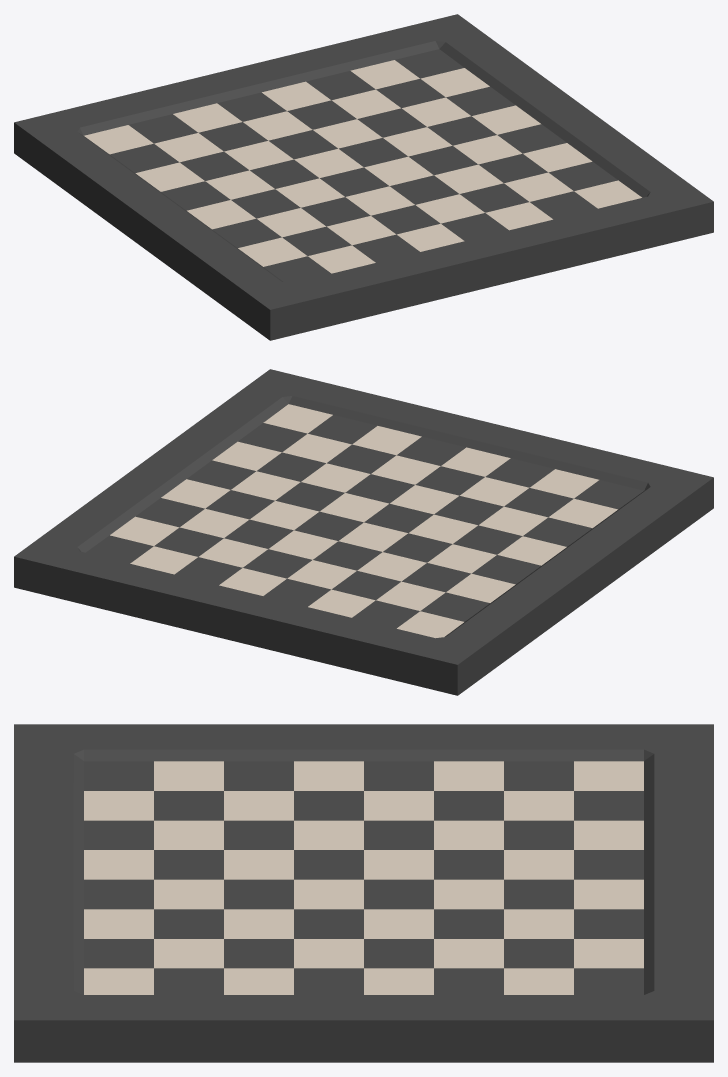
Rendered from board.gltf.
3 renders of one model, top to bottom at view 1: azimuth 30°, elevation 25°; view 2: azimuth 150°, elevation 25°; view 3: azimuth 270°, elevation 25°, orthographic. The views are drawn at different scales.
Visible parts, largest first — view 1: Board; view 2: Board; view 3: Board.
Boxes of the visible parts, x1=… form: Board: x1=14, y1=14, x2=713, y2=340; Board: x1=14, y1=369, x2=713, y2=695; Board: x1=14, y1=724, x2=713, y2=1062.
Bounding box in the file's own units: 10 × 0.6661 × 10.
